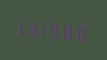one: (17, 17, 28, 38), (42, 19, 53, 39)
three: (29, 18, 40, 39), (54, 20, 65, 40)
zero: (66, 20, 77, 41), (78, 21, 89, 42)
